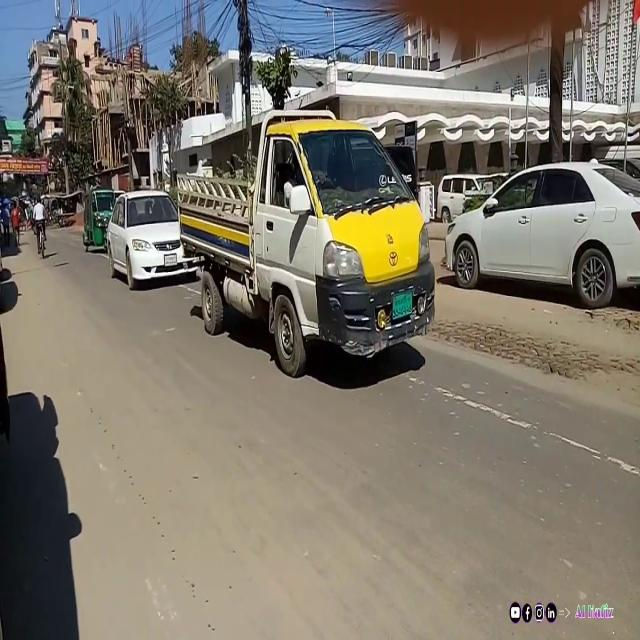white: (449, 158, 640, 306), (105, 188, 201, 298)
